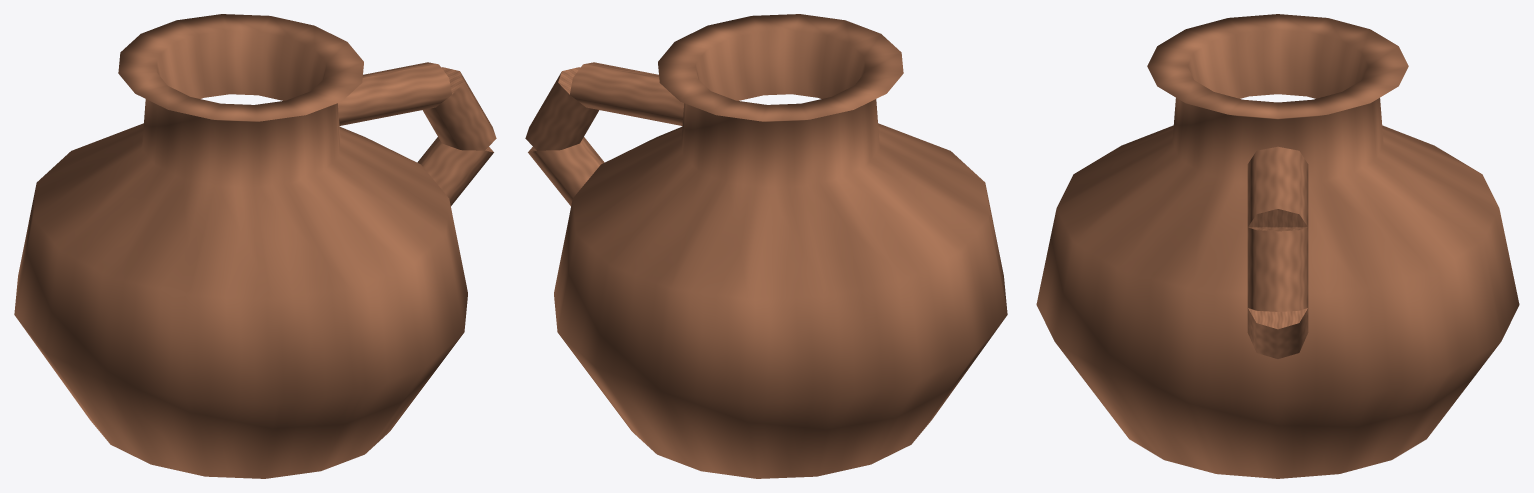
The model's file is jug.glb.
3 views of the same model, side by side, from view 1: azimuth 30°, elevation 25°; view 2: azimuth 150°, elevation 25°; view 3: azimuth 270°, elevation 25° (orthographic).
Visible parts, largest first — view 1: jug; view 2: jug; view 3: jug.
Part boxes in pixels (x1,y1,x2,y2): jug: [14, 14, 496, 478]; jug: [525, 14, 1007, 478]; jug: [1036, 14, 1519, 478].
Size of the model in its own units: 0.4071 by 0.3 by 0.3771.
1 material, 1 textured.
